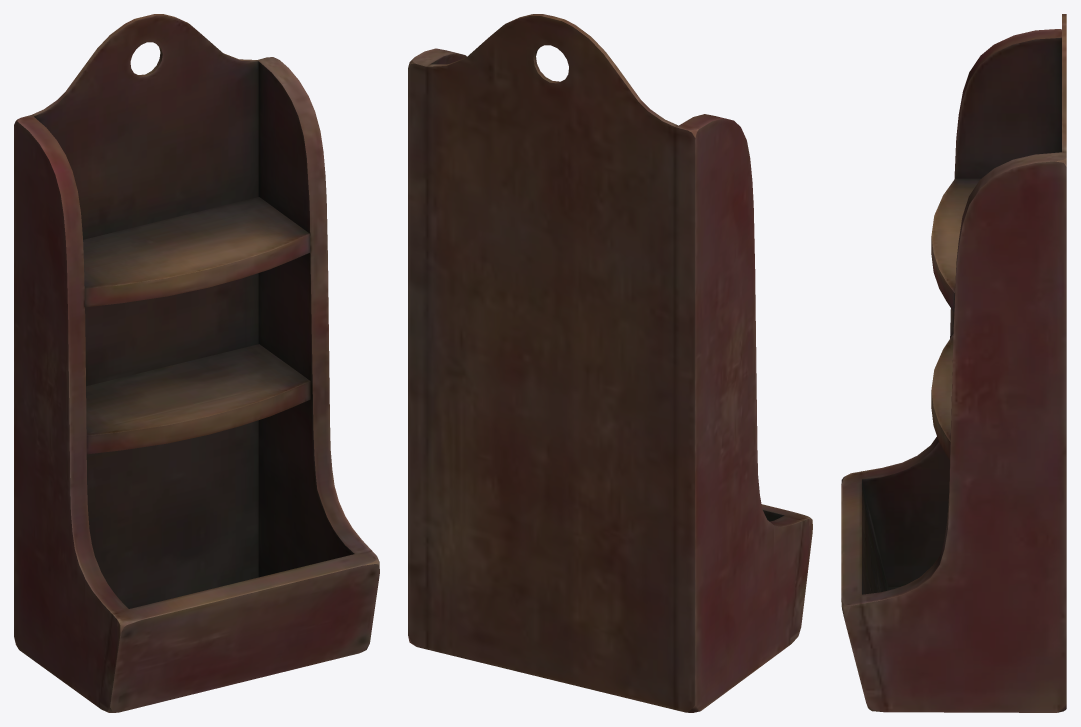
Rendered from painted_wooden_shelves.glb.
3 views of the same model, side by side, from view 1: azimuth 30°, elevation 25°; view 2: azimuth 150°, elevation 25°; view 3: azimuth 270°, elevation 25° (orthographic). The views are drawn at different scales.
Visible parts, largest first — view 1: painted_wooden_shelves; view 2: painted_wooden_shelves; view 3: painted_wooden_shelves.
Boxes of the visible parts, x1=… form: painted_wooden_shelves: x1=14, y1=14, x2=379, y2=712; painted_wooden_shelves: x1=408, y1=14, x2=812, y2=712; painted_wooden_shelves: x1=841, y1=14, x2=1066, y2=712.
Bounding box in the file's own units: 0.5111 × 1.13 × 0.3671.
1 material, 1 textured.
